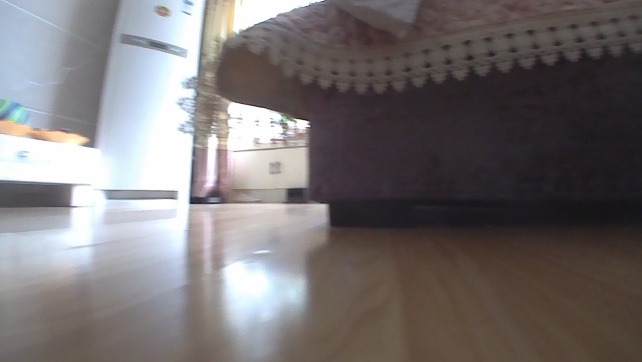sofa1: (205, 0, 641, 231)
